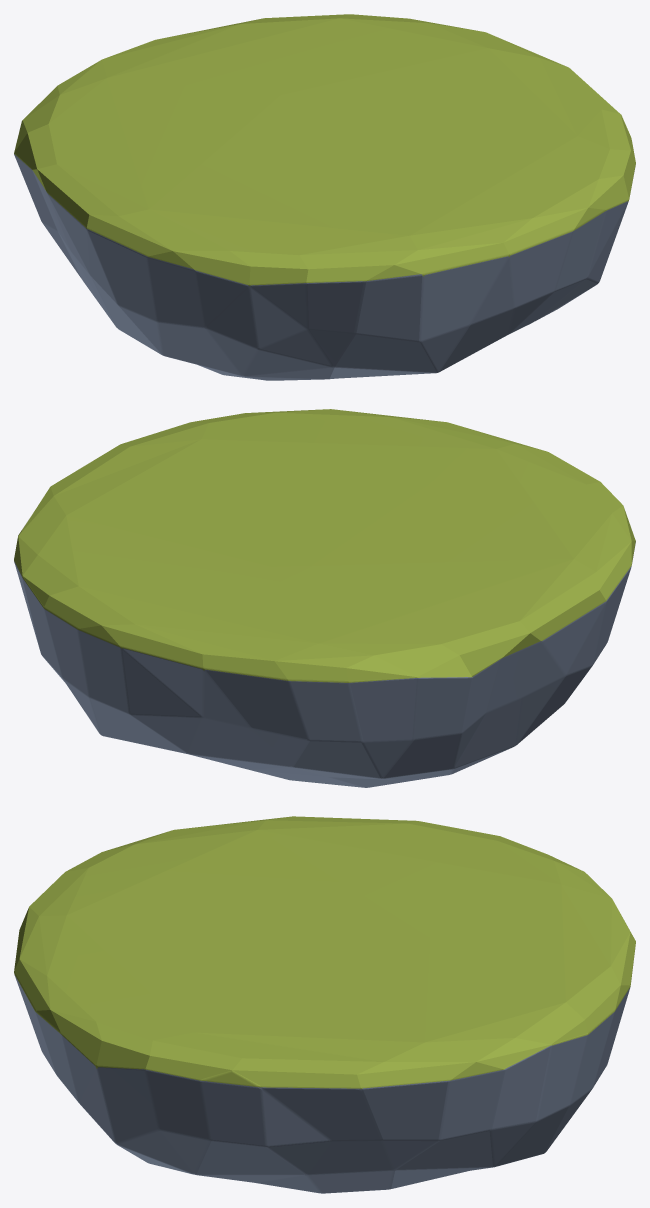
The model's file is Checkpoint Island.fbx.
The picture shows the model from 3 angles, top to bottom: view 1: azimuth 30°, elevation 25°; view 2: azimuth 150°, elevation 25°; view 3: azimuth 270°, elevation 25°; orthographic projection. The views are drawn at different scales.
Parts seen in each view (by area): view 1: Island; view 2: Island; view 3: Island.
Boxes of the visible parts, x1,y1,x2,y2 form: Island: (14, 14, 635, 380); Island: (14, 409, 635, 787); Island: (14, 816, 635, 1193).
Size of the model in its own units: 2140 by 893 by 2140.
